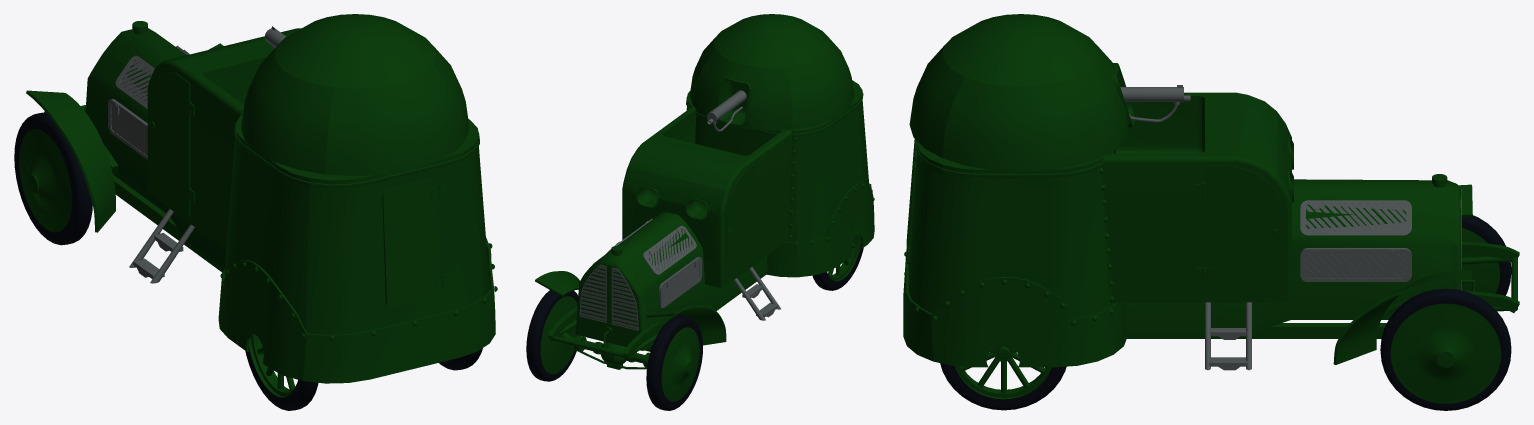
File: panzerwagen.glb
3 views of the same model, side by side, from view 1: azimuth 30°, elevation 25°; view 2: azimuth 150°, elevation 25°; view 3: azimuth 270°, elevation 25° (orthographic). The views are drawn at different scales.
Parts seen in each view (by area): view 1: gun_t, gun_turret, main_, main_body, main_body_, back_door, door_1, front_whee, front_tyre, grills, rear_tyres, steps (+2 smaller); view 2: main_body_, gun_turret, main_body, gun_t, grills, main_, front_tyre, front_whee, under, door_1, body_black, steps (+4 smaller); view 3: gun_turret, main_body_, gun_t, main_body, main_, front_whee, door_1, grills, front_tyre, under, rear_wheel, rear_tyres (+4 smaller).
Boxes of the visible parts, x1,y1,x2,y2 form: gun_t: (224, 114, 489, 334); gun_turret: (241, 14, 469, 176); main_: (218, 237, 495, 383); main_body: (26, 21, 226, 268); main_body_: (147, 28, 300, 249); back_door: (382, 179, 440, 308); door_1: (150, 72, 194, 216); front_whee: (19, 129, 71, 232); front_tyre: (14, 112, 92, 245); grills: (108, 37, 189, 159); rear_tyres: (245, 346, 482, 410); steps: (129, 208, 194, 283); main_body_: (622, 106, 792, 287); gun_turret: (689, 14, 854, 130); main_body: (535, 211, 767, 350); gun_t: (686, 80, 869, 241); grills: (579, 218, 702, 330); main_: (765, 182, 874, 277); front_tyre: (526, 290, 702, 410); front_whee: (540, 296, 699, 401); under: (548, 272, 765, 369); door_1: (726, 164, 758, 272); body_black: (637, 80, 748, 218); steps: (734, 267, 780, 320); gun_turret: (909, 14, 1130, 171); main_body_: (1101, 92, 1291, 302); gun_t: (908, 140, 1115, 318); main_body: (1124, 174, 1472, 364); main_: (903, 249, 1126, 367); front_whee: (1390, 228, 1501, 403); door_1: (1196, 165, 1281, 295); grills: (1300, 188, 1461, 290); front_tyre: (1380, 215, 1511, 410); under: (1127, 241, 1519, 338); rear_wheel: (955, 345, 1052, 399); rear_tyres: (940, 363, 1066, 410).
Bounding box in the file's own units: 129 × 200 × 324.
